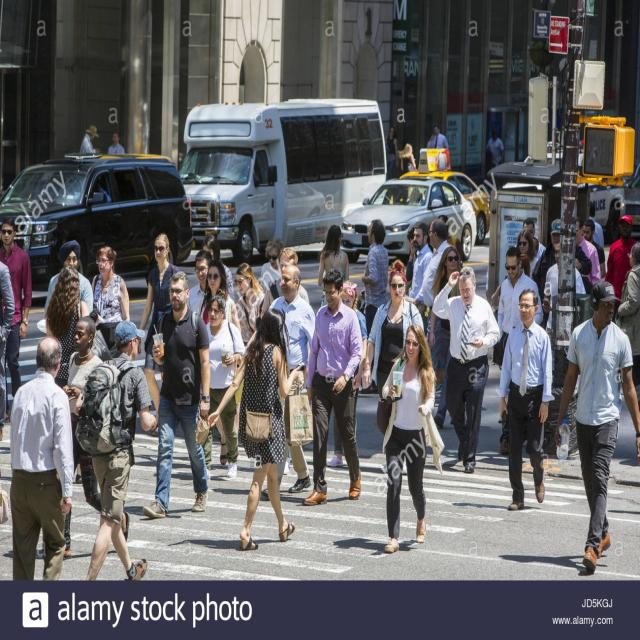body: (206, 306, 314, 551), (554, 278, 640, 576), (74, 318, 158, 582), (140, 269, 212, 522), (61, 314, 131, 560), (7, 334, 75, 580), (300, 264, 364, 508), (430, 263, 502, 475), (495, 286, 556, 513), (376, 327, 436, 555), (362, 258, 424, 475), (260, 263, 316, 498), (125, 452, 297, 517), (497, 246, 545, 456), (137, 232, 185, 434), (198, 259, 242, 465), (200, 294, 247, 481), (326, 278, 368, 468), (530, 218, 594, 332), (427, 244, 465, 430), (0, 214, 32, 424), (421, 217, 458, 396), (541, 237, 587, 376), (45, 263, 97, 380), (234, 262, 266, 448), (497, 250, 540, 368), (43, 238, 95, 317), (260, 246, 312, 322), (604, 214, 639, 326), (614, 240, 640, 390), (407, 219, 436, 339), (361, 218, 389, 341), (91, 246, 131, 324), (0, 240, 16, 425), (494, 550, 607, 576), (317, 224, 350, 307), (202, 234, 236, 303), (2, 542, 118, 562), (428, 452, 528, 474), (575, 215, 602, 287), (403, 224, 431, 291), (168, 535, 278, 552), (74, 168, 118, 208), (186, 248, 213, 313), (332, 536, 415, 557), (582, 219, 606, 280), (514, 217, 547, 260), (516, 227, 540, 278), (437, 213, 463, 260), (260, 236, 284, 285), (452, 500, 541, 513), (384, 125, 400, 181), (484, 128, 506, 166), (589, 202, 604, 250), (78, 124, 100, 155), (399, 142, 417, 174), (426, 124, 449, 149), (406, 188, 434, 208), (107, 131, 126, 154), (530, 235, 540, 258)
